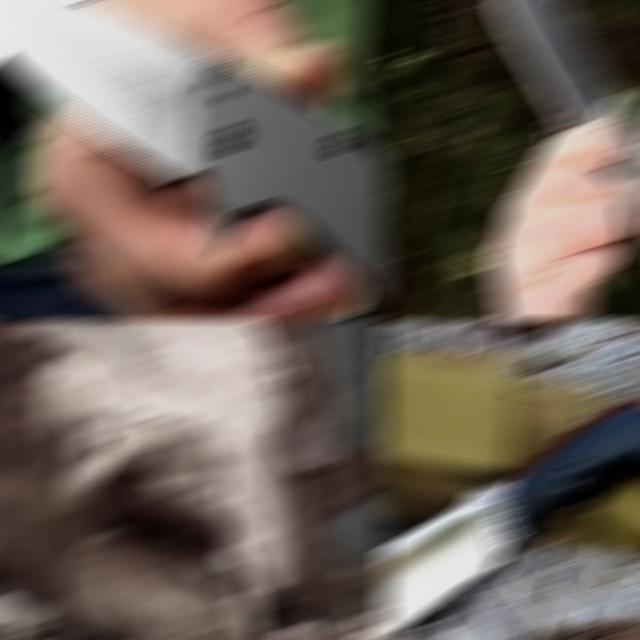Knife: (0, 2, 390, 311), (378, 399, 640, 638), (490, 2, 640, 222)
Knife_Handle: (414, 2, 640, 318)
